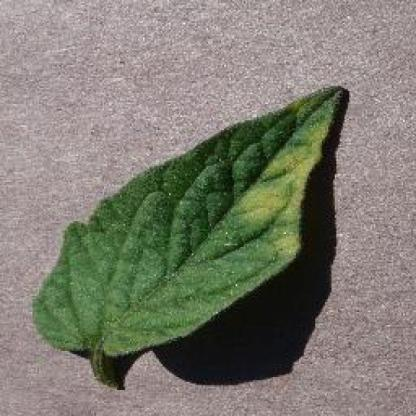Tomato_Leaf_Mold: (31, 86, 340, 349)
